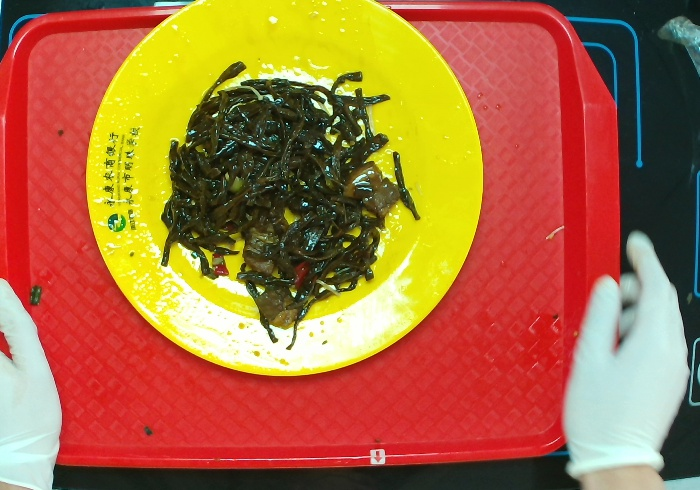YKMZ-Huang_Se_Mian_Pan: (80, 1, 484, 383)
